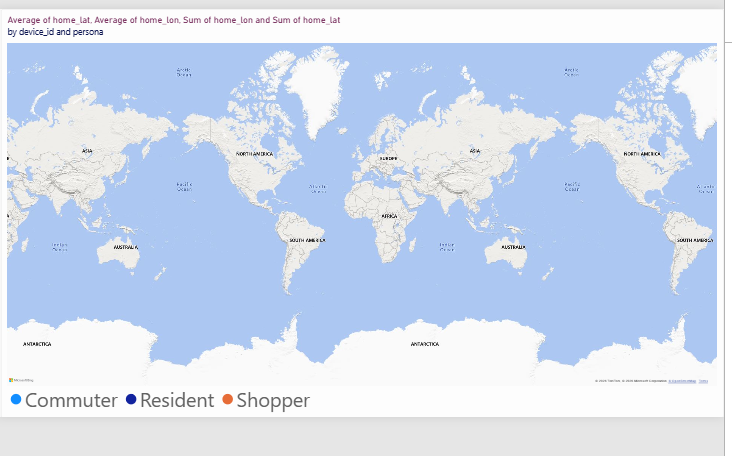

The page's visual inventory and layout, read from the dashboard file:
{"tool":"powerbi","page":{"name":"Map veiw","canvas":[1920,1080],"ordinal":1},"visuals":[{"type":"map","title":"Device homes clustered around 3 residential zones","fields":{"Series":["catchment_data_with_rules.persona"],"Y":["Avg(catchment_data_with_rules.home_lat)"],"X":["Avg(catchment_data_with_rules.home_lon)"],"Category":["catchment_data_with_rules.device_id"]},"box":[10.6,0,1909.4,1080.2],"z":0}]}

Visuals, with their boxes on the page's 1920x1080 design canvas (x1, y1, x2, y2). These are canvas units, not pixel positions in the 732x456 screenshot, which may show the page scaled, cropped or inside an application window:
"Device homes clustered around 3 residential zones" map: crop(11, 0, 1920, 1080)
